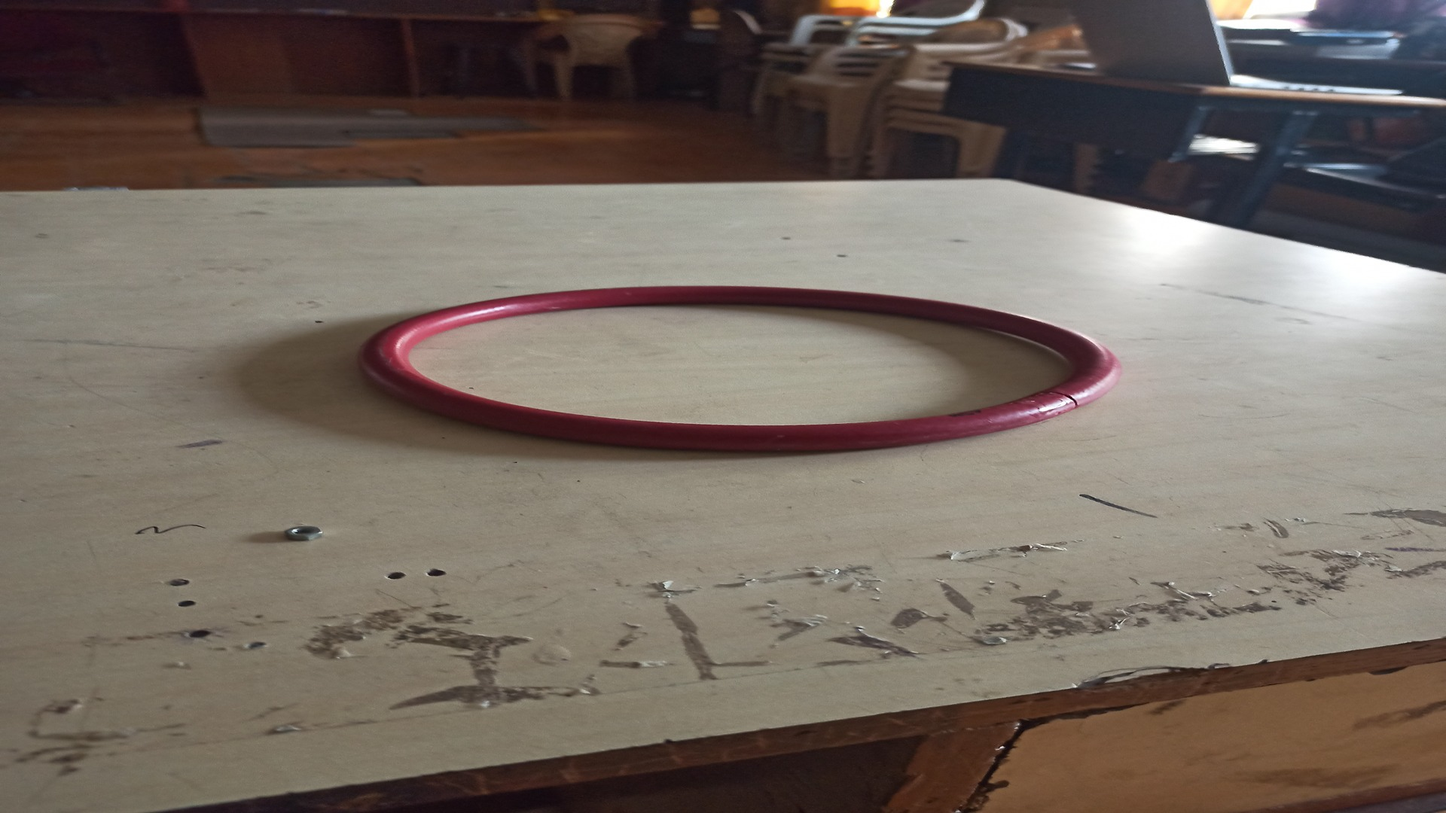Red ring: (357, 284, 1127, 449)
